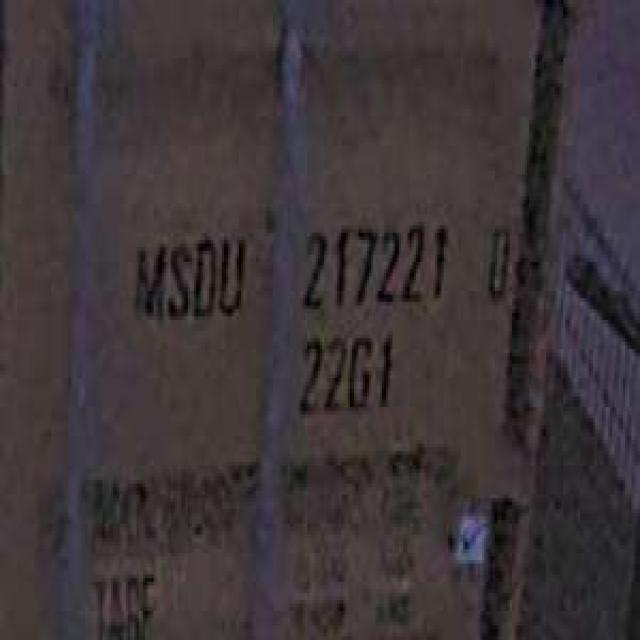dv: (480, 211, 512, 305)
owner: (126, 222, 249, 331)
serial: (296, 208, 454, 316)
size: (292, 324, 397, 418)
